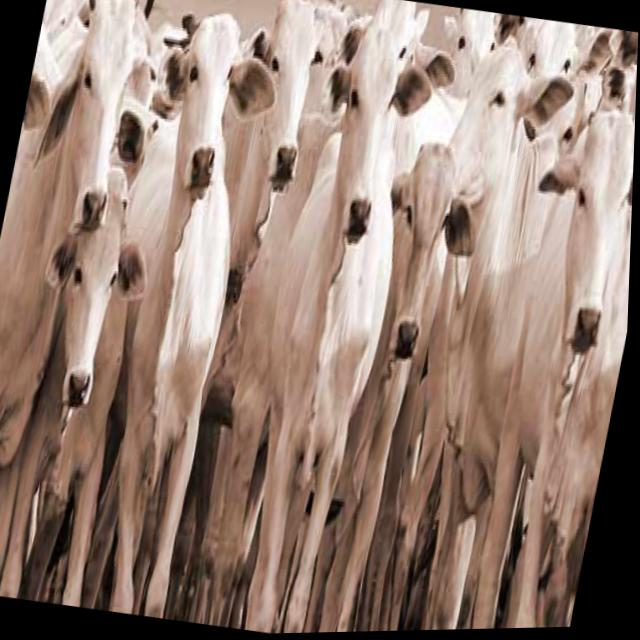cowFace: (19, 149, 177, 429), (295, 11, 455, 265), (505, 88, 637, 383), (24, 0, 177, 247), (358, 124, 496, 381), (131, 7, 291, 211)
